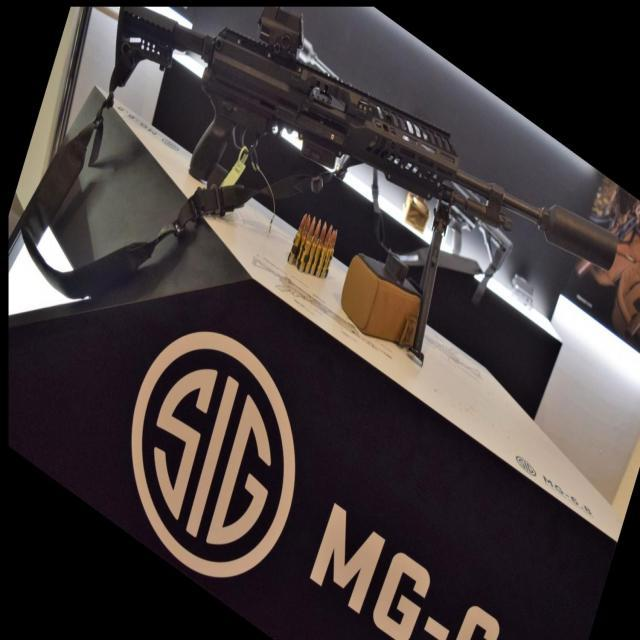weapon: (113, 6, 622, 366)
